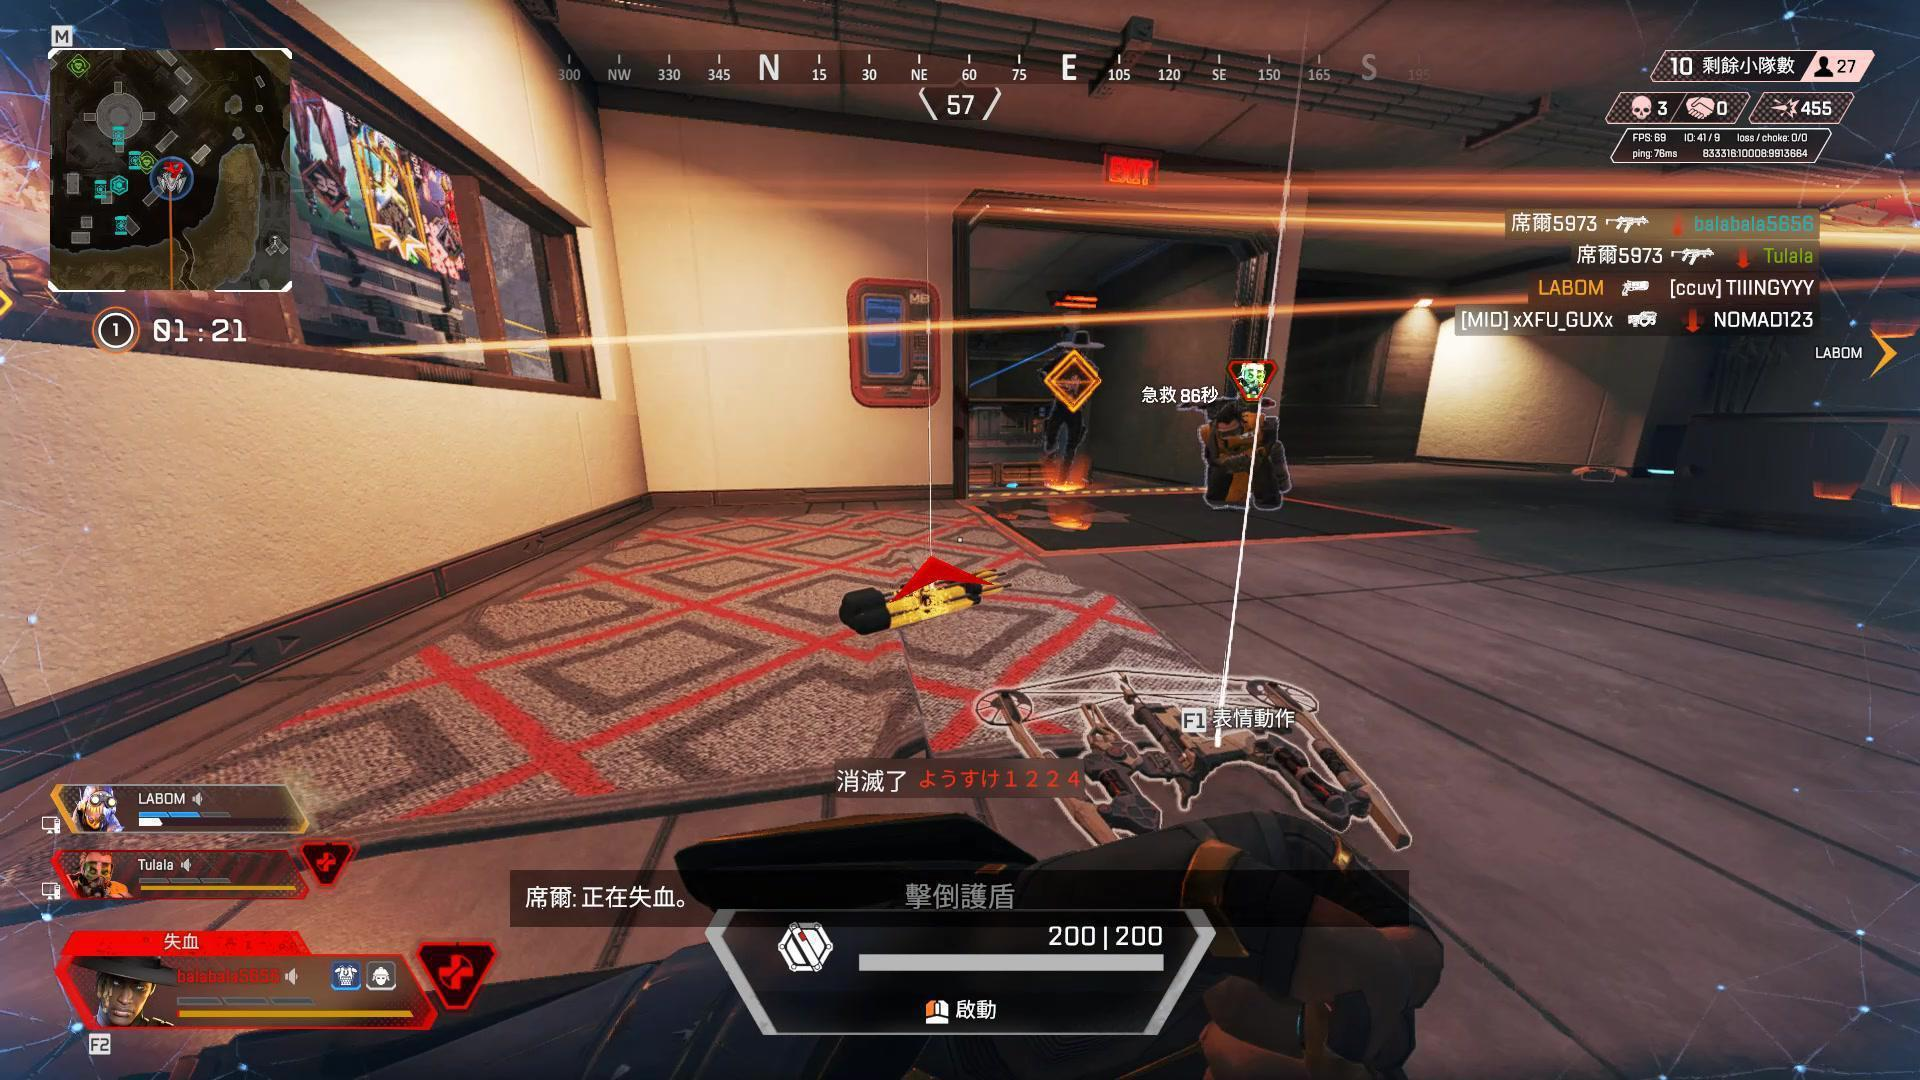avatar: (1196, 402, 1294, 513), (1038, 330, 1103, 486)
object: (1043, 348, 1102, 414)
